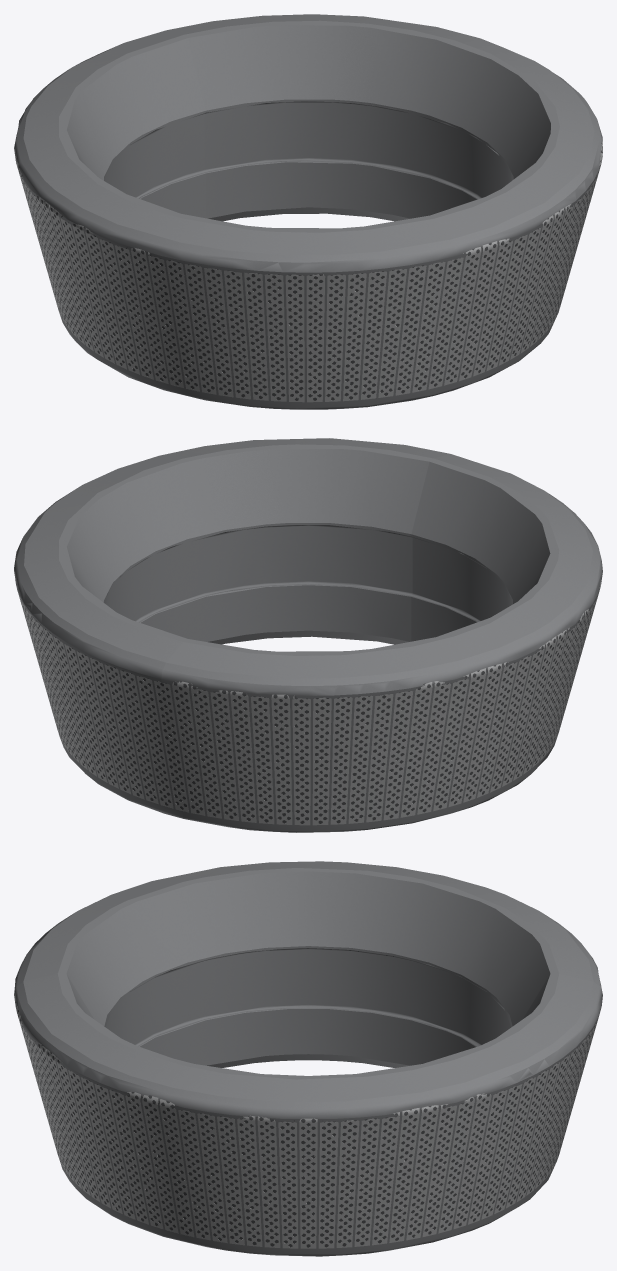
File: thermal-sintercast-loesche-lm-roller.glb
The picture shows the model from 3 angles, top to bottom: view 1: azimuth 30°, elevation 25°; view 2: azimuth 150°, elevation 25°; view 3: azimuth 270°, elevation 25°; orthographic projection.
Parts seen in each view (by area): view 1: metal, sinterCeramic, sinterHicr; view 2: metal, sinterCeramic, sinterHicr; view 3: metal, sinterCeramic, sinterHicr.
Part boxes in pixels (x1=…): metal: x1=14, y1=14, x2=602, y2=409; sinterCeramic: x1=15, y1=134, x2=602, y2=402; sinterHicr: x1=15, y1=143, x2=602, y2=400; metal: x1=14, y1=438, x2=602, y2=832; sinterCeramic: x1=15, y1=577, x2=601, y2=825; sinterHicr: x1=15, y1=577, x2=601, y2=823; metal: x1=14, y1=861, x2=602, y2=1256; sinterCeramic: x1=15, y1=982, x2=600, y2=1248; sinterHicr: x1=15, y1=1002, x2=598, y2=1247.
Size of the model in its own units: 2.55 by 0.854 by 2.55.
Materials: 3 (1 with a texture image).
